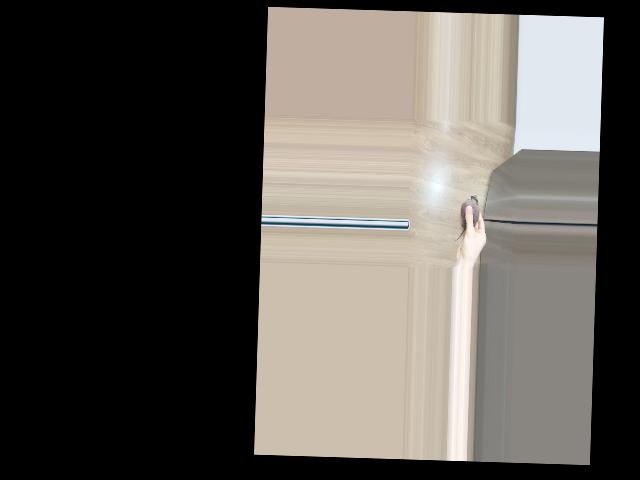beet: (453, 194, 479, 240)
